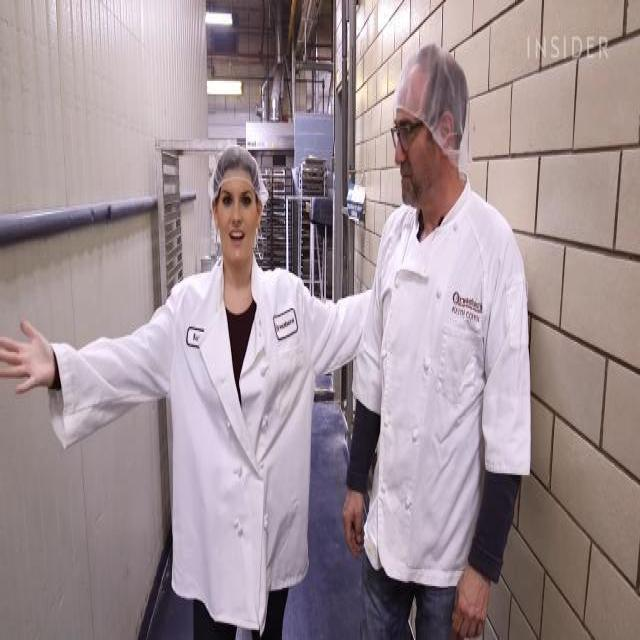bare_hand: (1, 308, 62, 419), (442, 561, 494, 640), (334, 458, 373, 554)
